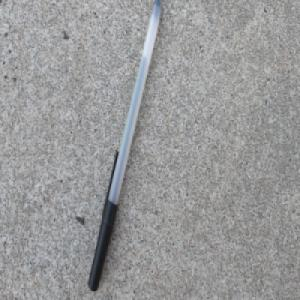Pen: (87, 0, 164, 293)
